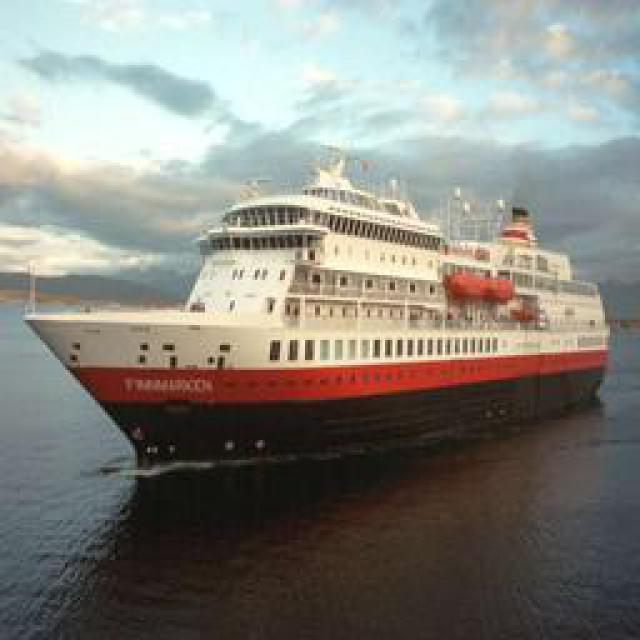Ship: (26, 164, 611, 469)
